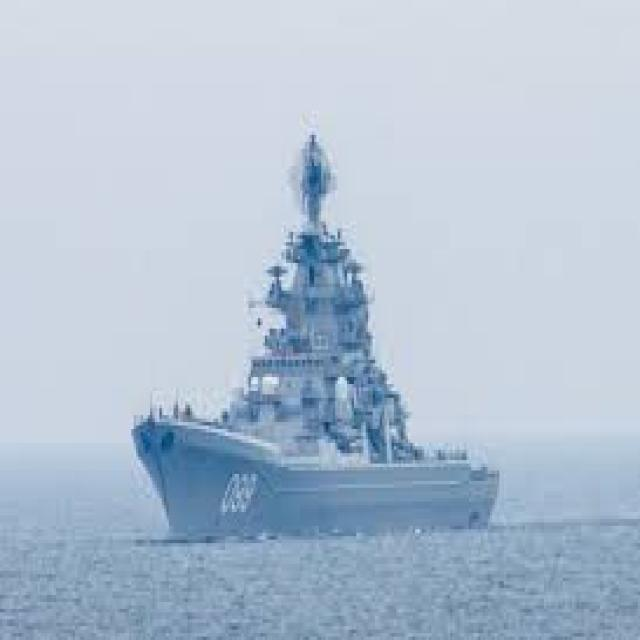navalvessels: (128, 122, 510, 545)
